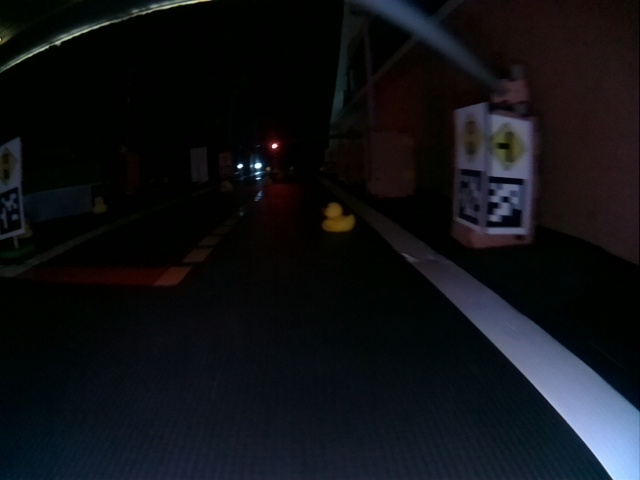Duckie: (322, 203, 355, 231)
Intersection sign: (488, 121, 527, 170)
QR code: (490, 178, 529, 229), (455, 171, 483, 226), (2, 188, 21, 235)
Signal sign: (456, 114, 484, 165), (0, 146, 18, 185)
